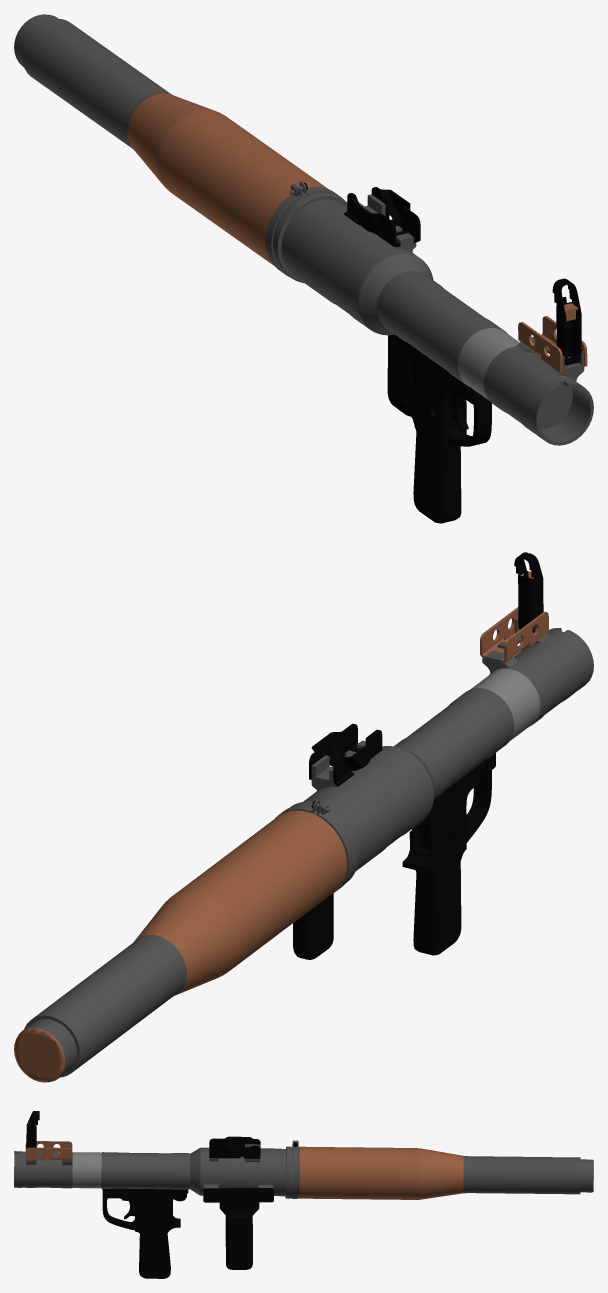
Rendered from Bazooka.fbx.
The picture shows the model from 3 angles, top to bottom: view 1: azimuth 30°, elevation 25°; view 2: azimuth 150°, elevation 25°; view 3: azimuth 270°, elevation 25°; orthographic projection. The views are drawn at different scales.
Parts seen in each view (by area): view 1: RPG7; view 2: RPG7; view 3: RPG7.
Part boxes in pixels (x1=…): RPG7: x1=14, y1=14, x2=593, y2=523; RPG7: x1=14, y1=552, x2=593, y2=1082; RPG7: x1=14, y1=1111, x2=593, y2=1278.
Size of the model in its own units: 0.4139 by 1.22 by 3.78.
